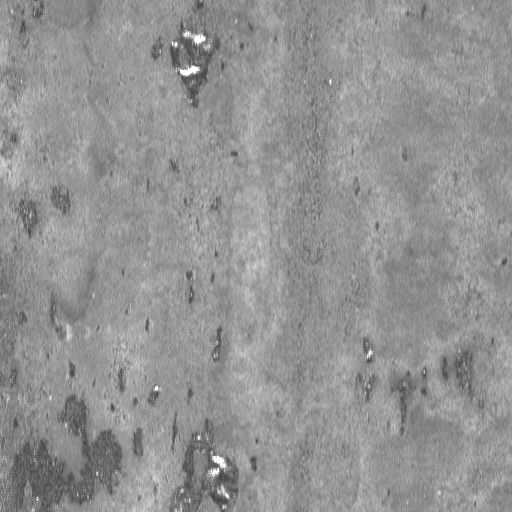aokeng: (9, 392, 125, 512), (169, 415, 241, 512), (168, 24, 220, 112)
